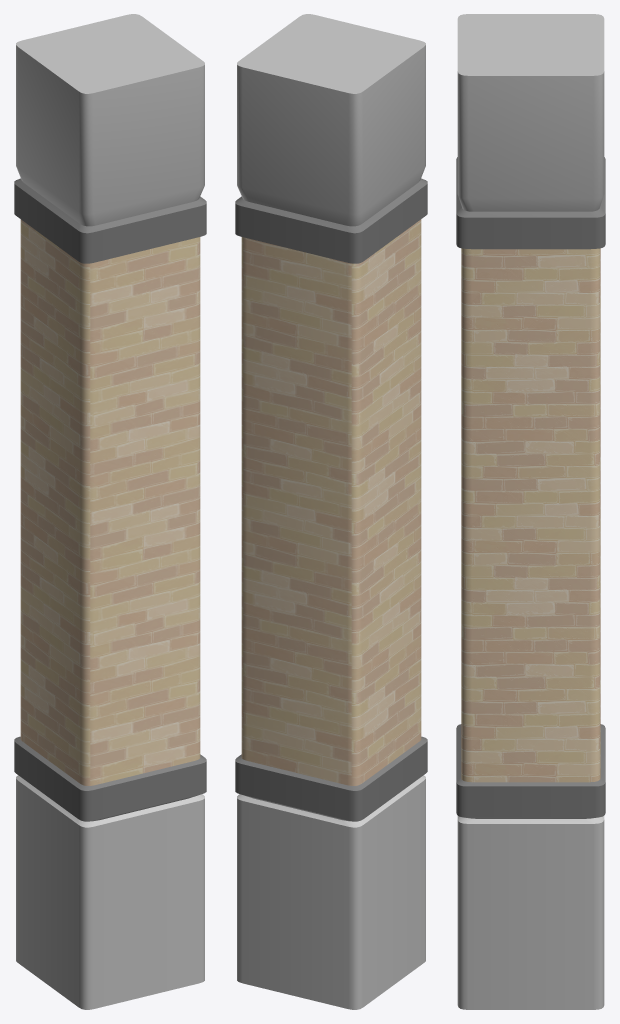
The model's file is SM_wall_c_connector_01.fbx.
3 views of the same model, side by side, from view 1: azimuth 30°, elevation 25°; view 2: azimuth 150°, elevation 25°; view 3: azimuth 270°, elevation 25° (orthographic).
Visible parts, largest first — view 1: Box466; view 2: Box466; view 3: Box466.
Part boxes in pixels (left/top/right/bottom): Box466: left=14, top=14, right=206, bottom=1009; Box466: left=235, top=14, right=427, bottom=1009; Box466: left=456, top=14, right=605, bottom=1009.
Size of the model in its own units: 29.55 by 204 by 29.55.
